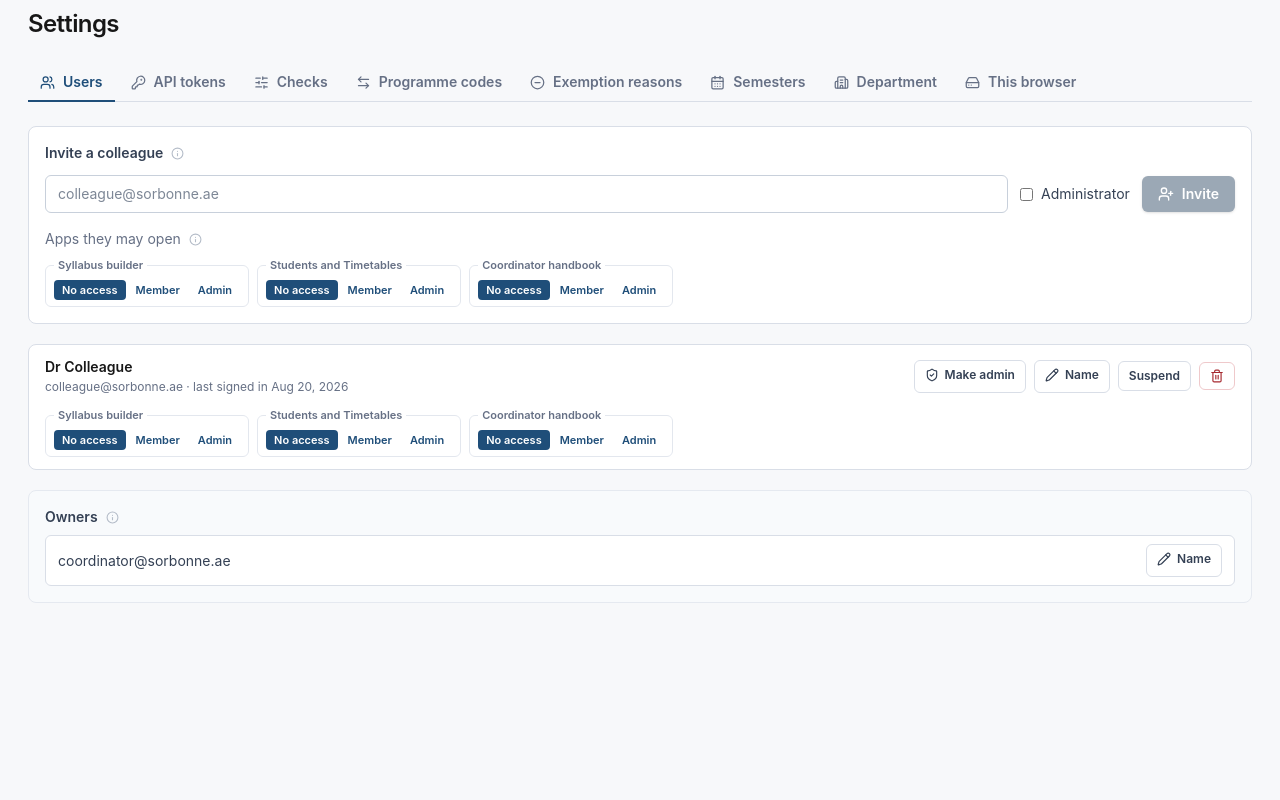
Test case: StaffSettings › says plainly when the server refuses a change
Click the button "Make admin": coordinates (970, 376) 914,360 -> 1026,392
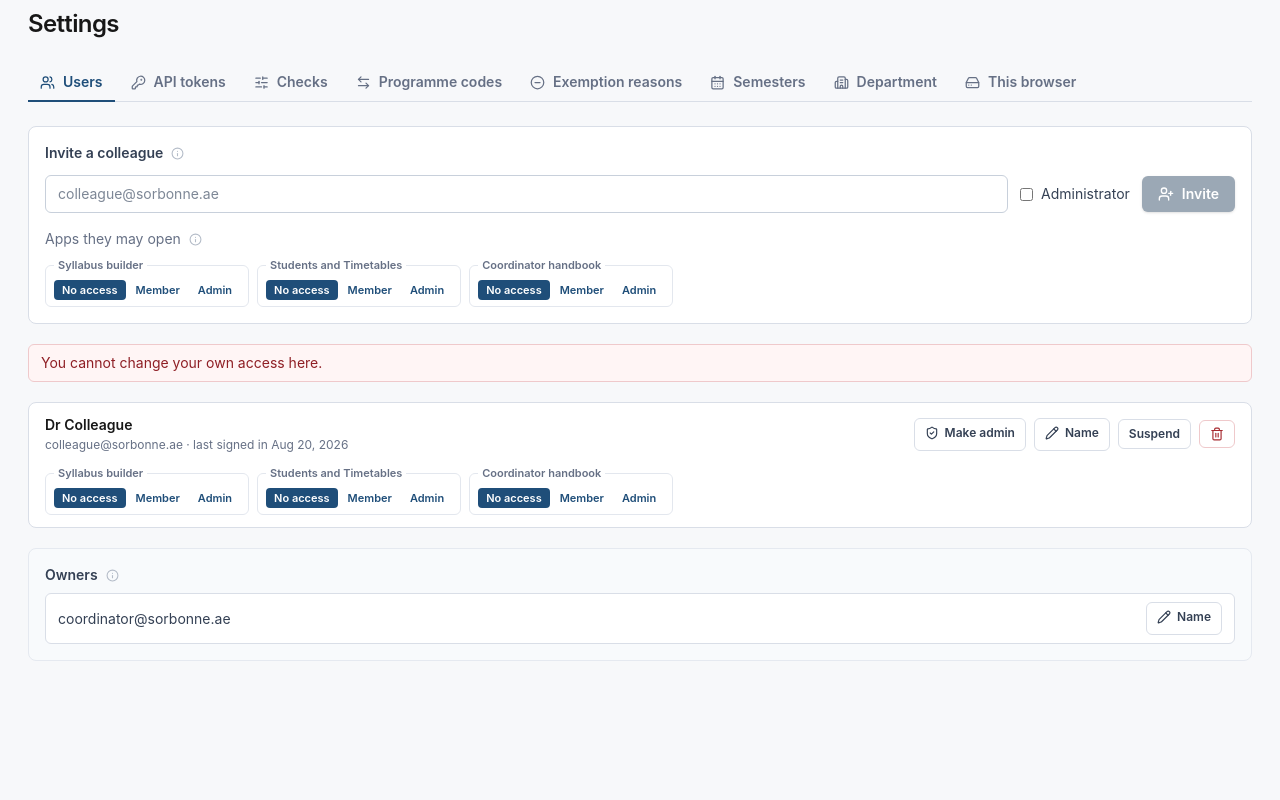
Expected: the message reads "You cannot change your own access here.", 41,354 -> 322,371
